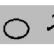no answer: (3, 18, 31, 40)
